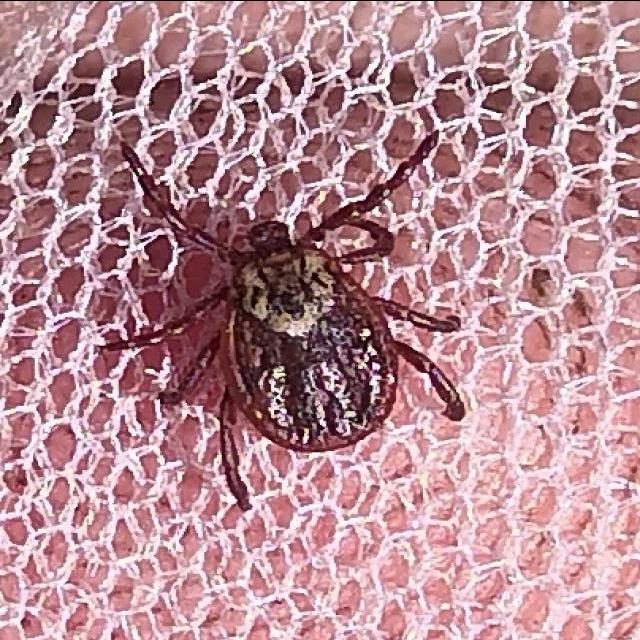Dermacentor Reticulatus-F: (101, 130, 464, 510)
